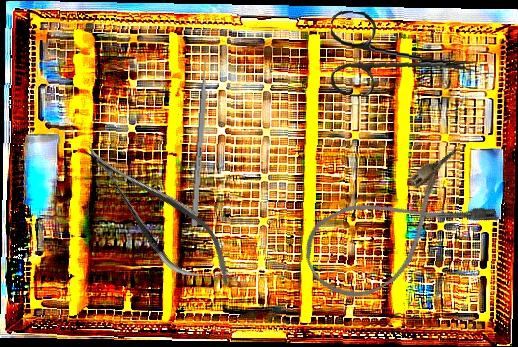Cannula: (292, 144, 502, 314)
Iris Scissors: (325, 9, 481, 107)
Micro Scissor: (67, 124, 248, 306)
Pusher: (190, 42, 211, 227)
